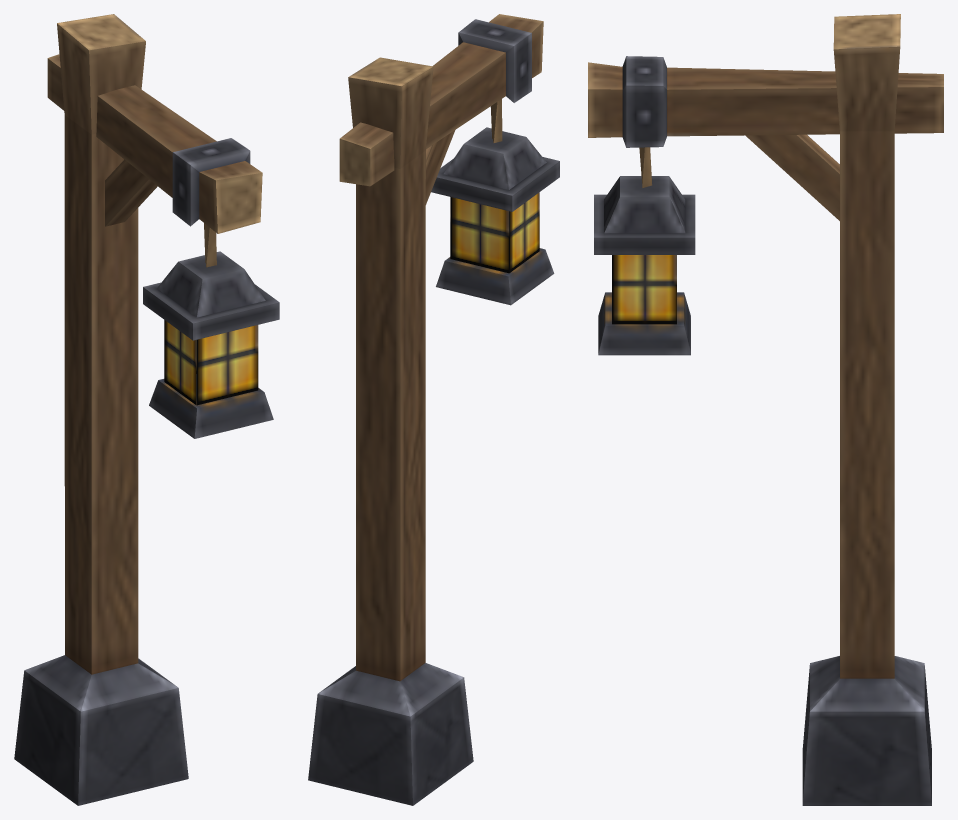
Rendered from lamp_a.FBX.
3 views of the same model, side by side, from view 1: azimuth 30°, elevation 25°; view 2: azimuth 150°, elevation 25°; view 3: azimuth 270°, elevation 25° (orthographic). The views are drawn at different scales.
Visible parts, largest first — view 1: polySurface41; view 2: polySurface41; view 3: polySurface41.
Part boxes in pixels (x1,y1,x2,y2): polySurface41: (14,14,279,805); polySurface41: (308,14,559,805); polySurface41: (588,14,943,805).
Size of the model in its own units: 13.2 by 36.24 by 84.4.
